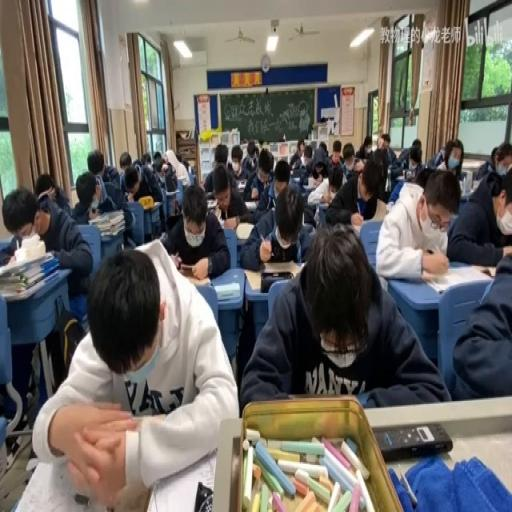calculator: (10, 454, 93, 510), (146, 445, 218, 509), (0, 244, 58, 298), (422, 260, 492, 294), (242, 262, 300, 292), (208, 200, 241, 224), (177, 263, 211, 283), (213, 282, 241, 300), (235, 222, 255, 240), (138, 199, 160, 212), (350, 219, 366, 236), (86, 209, 100, 222), (204, 196, 218, 208), (470, 180, 482, 194), (150, 232, 165, 243), (304, 175, 316, 188), (176, 174, 186, 189), (290, 172, 302, 181), (243, 201, 256, 209), (236, 179, 246, 189), (166, 186, 178, 194), (395, 172, 405, 179)
paper: (33, 242, 237, 505), (240, 225, 445, 414), (448, 178, 512, 401), (375, 168, 458, 282), (162, 181, 228, 280), (240, 183, 314, 269), (70, 171, 130, 267), (326, 154, 384, 224), (122, 161, 164, 232), (202, 145, 240, 199), (390, 137, 426, 192), (37, 169, 72, 218), (470, 142, 510, 184), (426, 137, 463, 179), (302, 142, 332, 182), (151, 150, 176, 188), (371, 134, 396, 166), (240, 138, 259, 175), (354, 132, 374, 162), (272, 159, 290, 192), (86, 150, 104, 176), (289, 138, 305, 166), (258, 149, 274, 175), (124, 174, 138, 196), (118, 151, 132, 172), (342, 144, 354, 165), (176, 152, 186, 171), (142, 151, 152, 168), (210, 146, 218, 166), (331, 144, 341, 160), (318, 141, 328, 155), (411, 138, 421, 151), (253, 145, 259, 157), (304, 154, 310, 165)
person: (373, 420, 453, 458), (480, 267, 493, 276)
